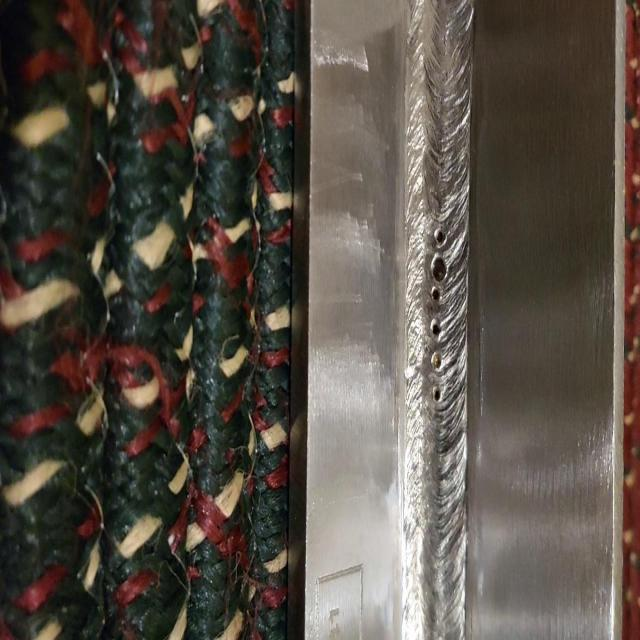Welding Line: (408, 2, 468, 640)
Workpiece: (298, 5, 620, 640)
porosity: (429, 224, 447, 406)
